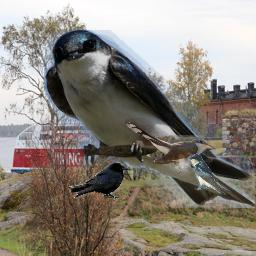Crow: (69, 162, 129, 199)
Cuckoo: (125, 118, 216, 176)
Swallow: (44, 30, 255, 208), (188, 154, 231, 195)
